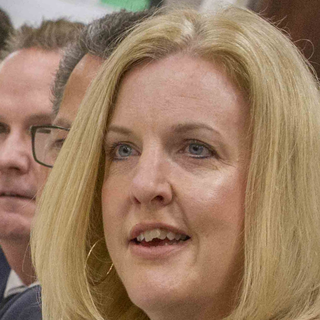eye: (173, 136, 220, 164), (107, 138, 145, 164)
